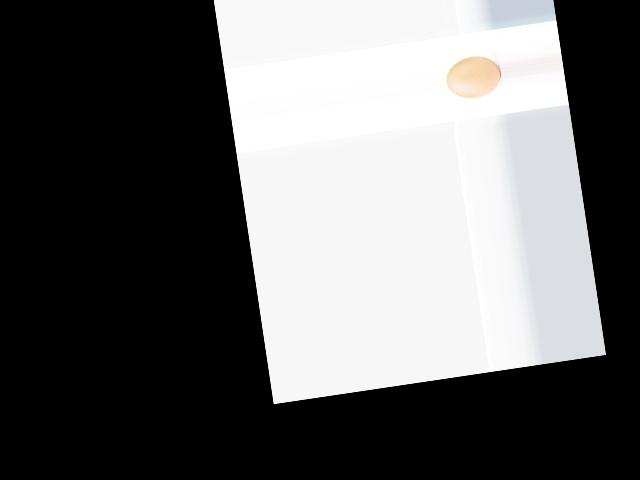egg: (444, 52, 503, 101)
